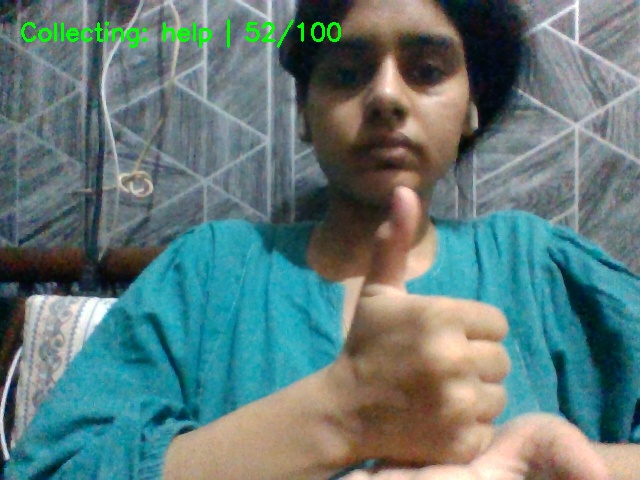help: (283, 181, 635, 480)
